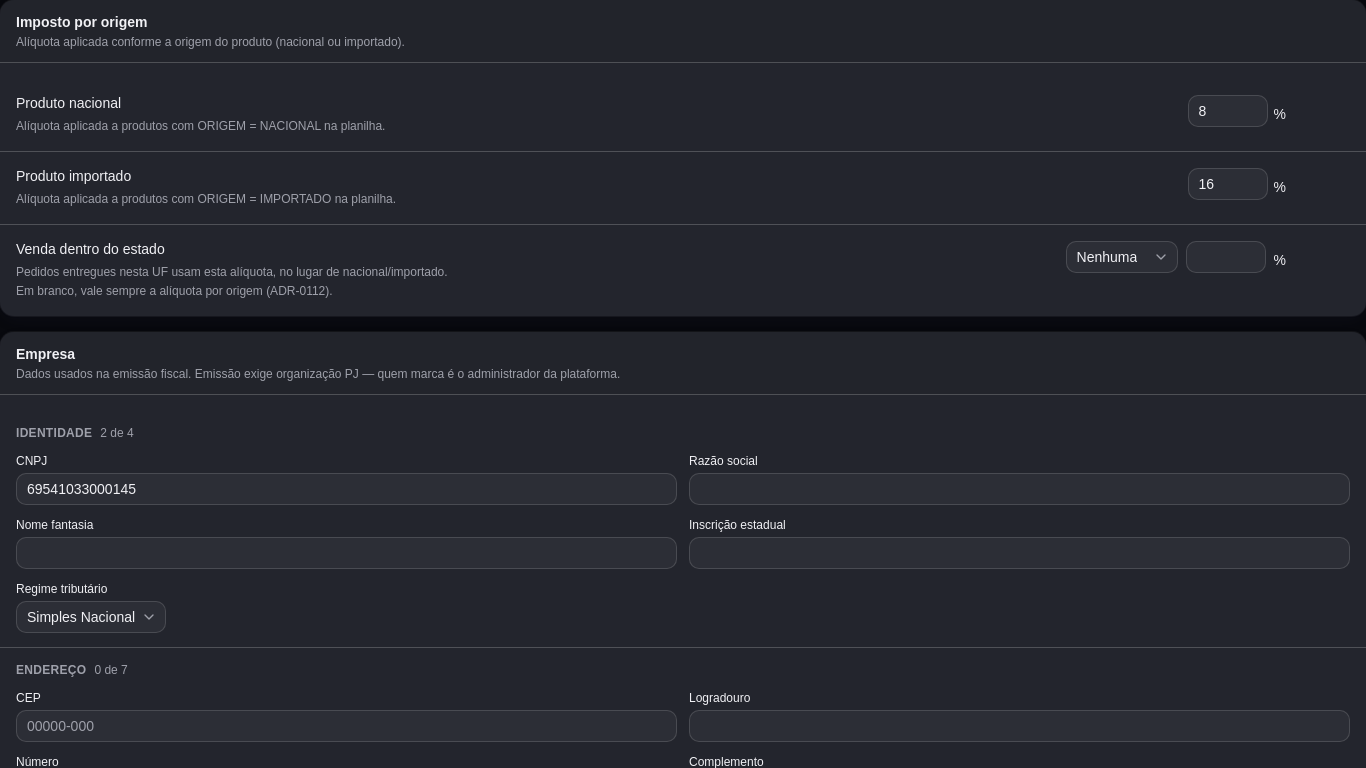
CEP preenche o endereço (ViaCEP) › CEP com menos de 8 dígitos: erro no campo, sem consulta
The image size is (1366, 768).
Step 1. Type "5102" into the field labelled "CEP" → (346, 726), box [16,710,677,742]
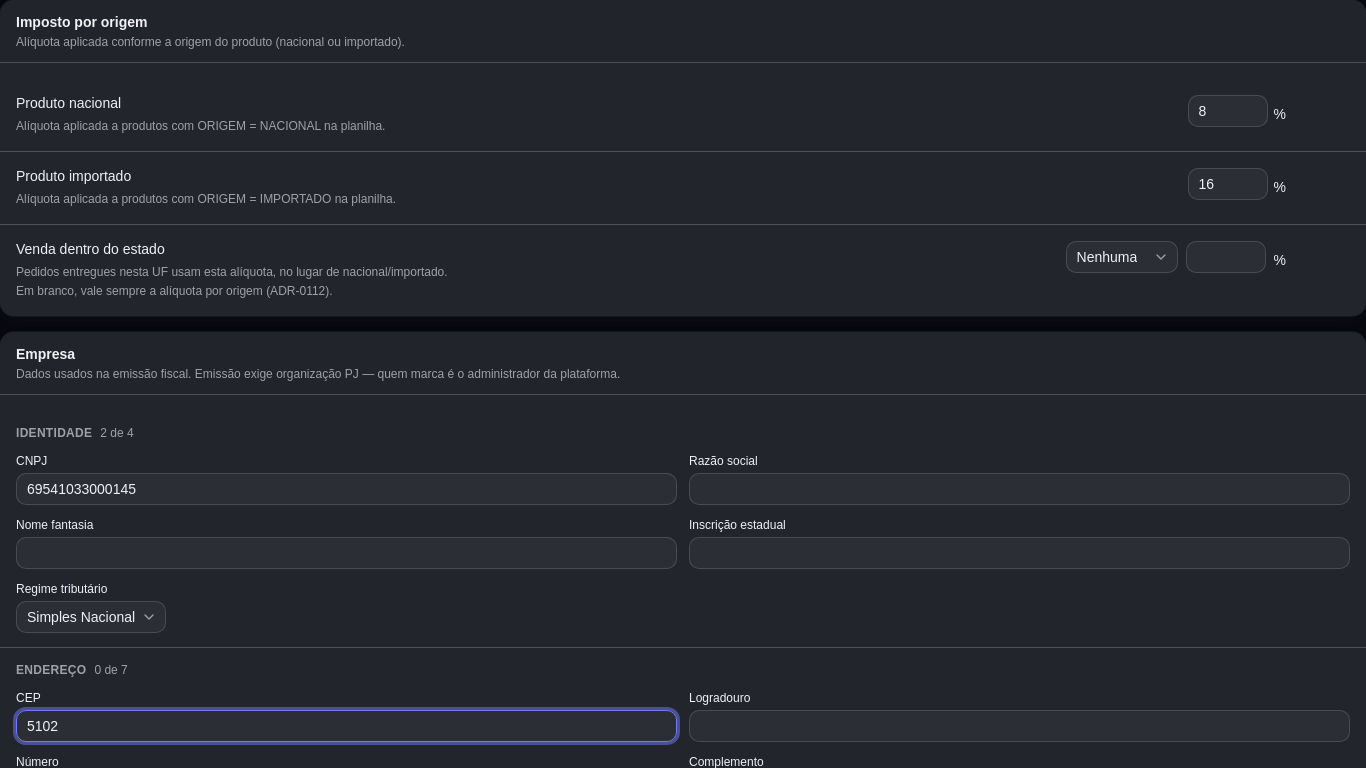
Step 2. Press Tab
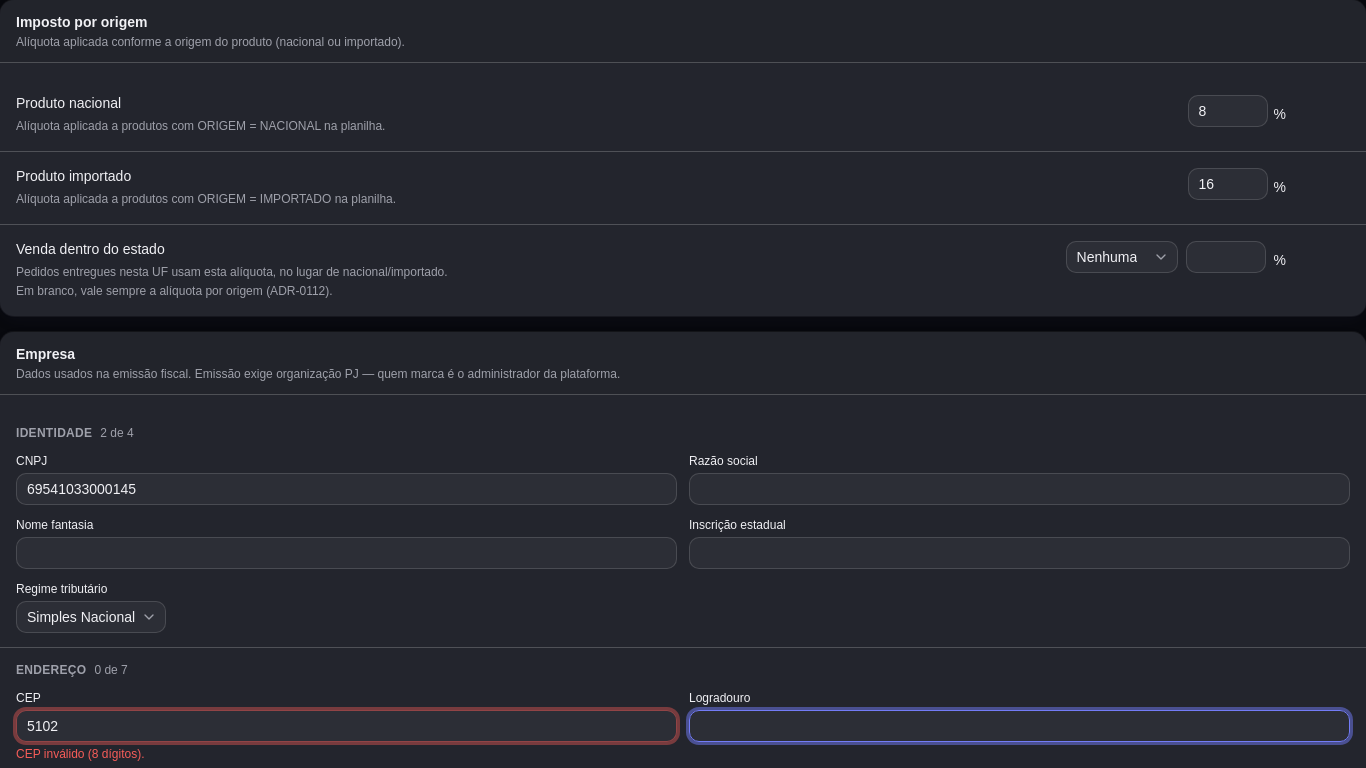
Now the text "CEP inválido (8 dígitos)." is shown, box [16,747,144,761]
